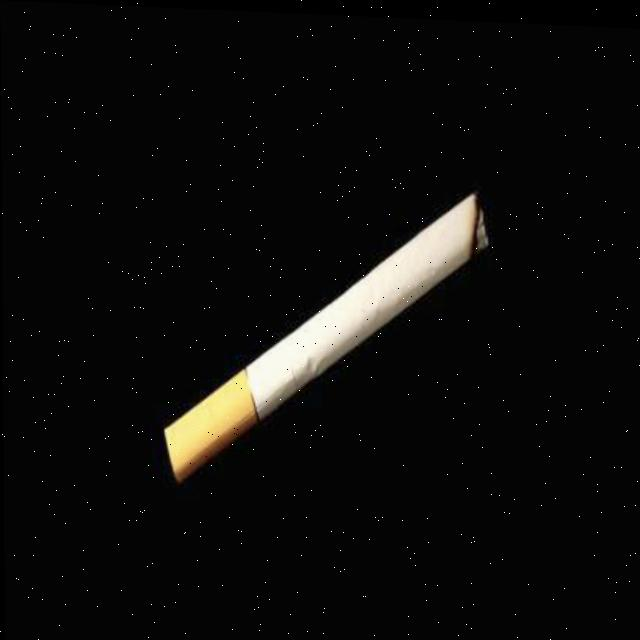cigarette: (159, 173, 492, 492)
